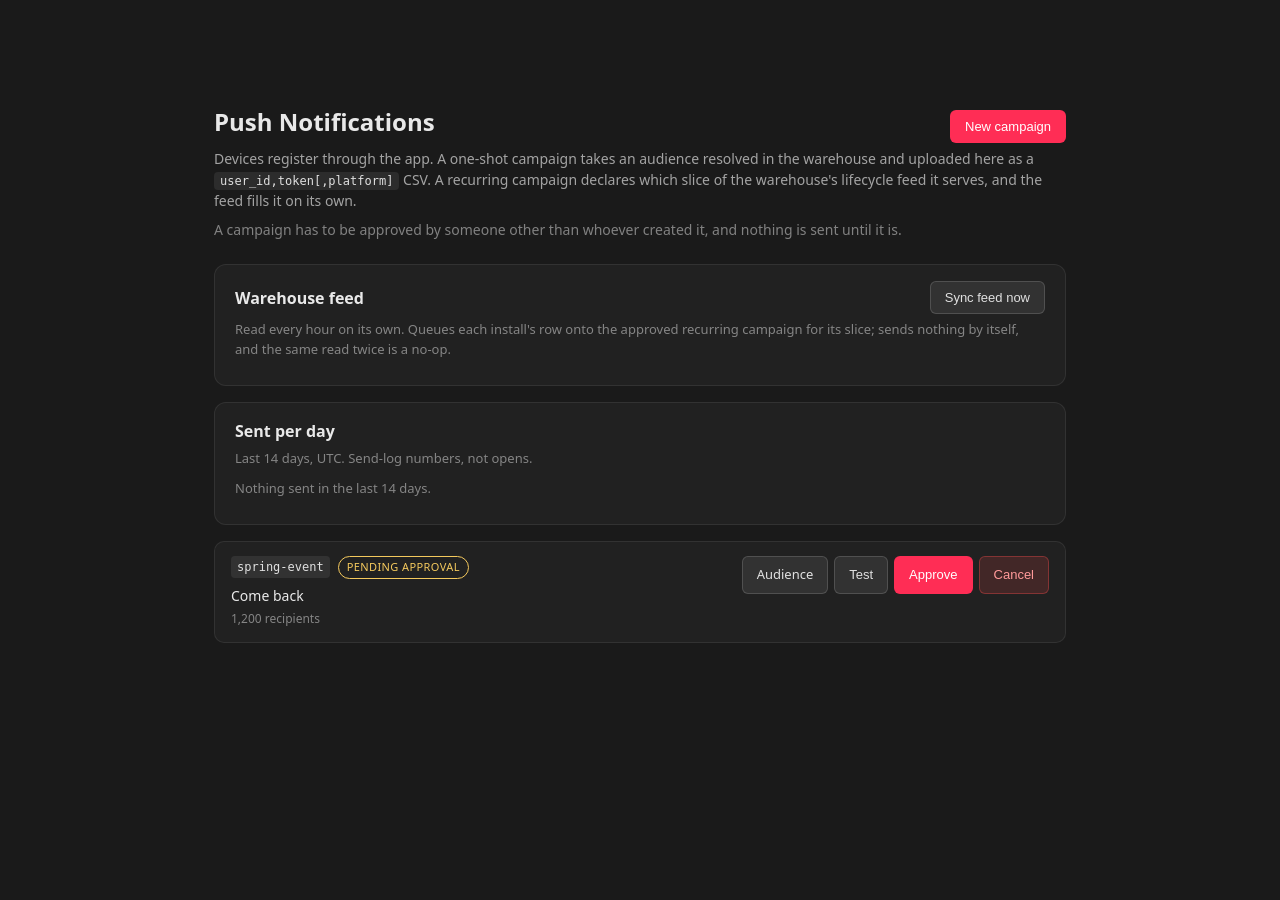
Scenario: PushPage › offers approval to anyone else
The image size is (1280, 900).
Click the button "Approve".
click(933, 575)  # box [894,556,972,594]
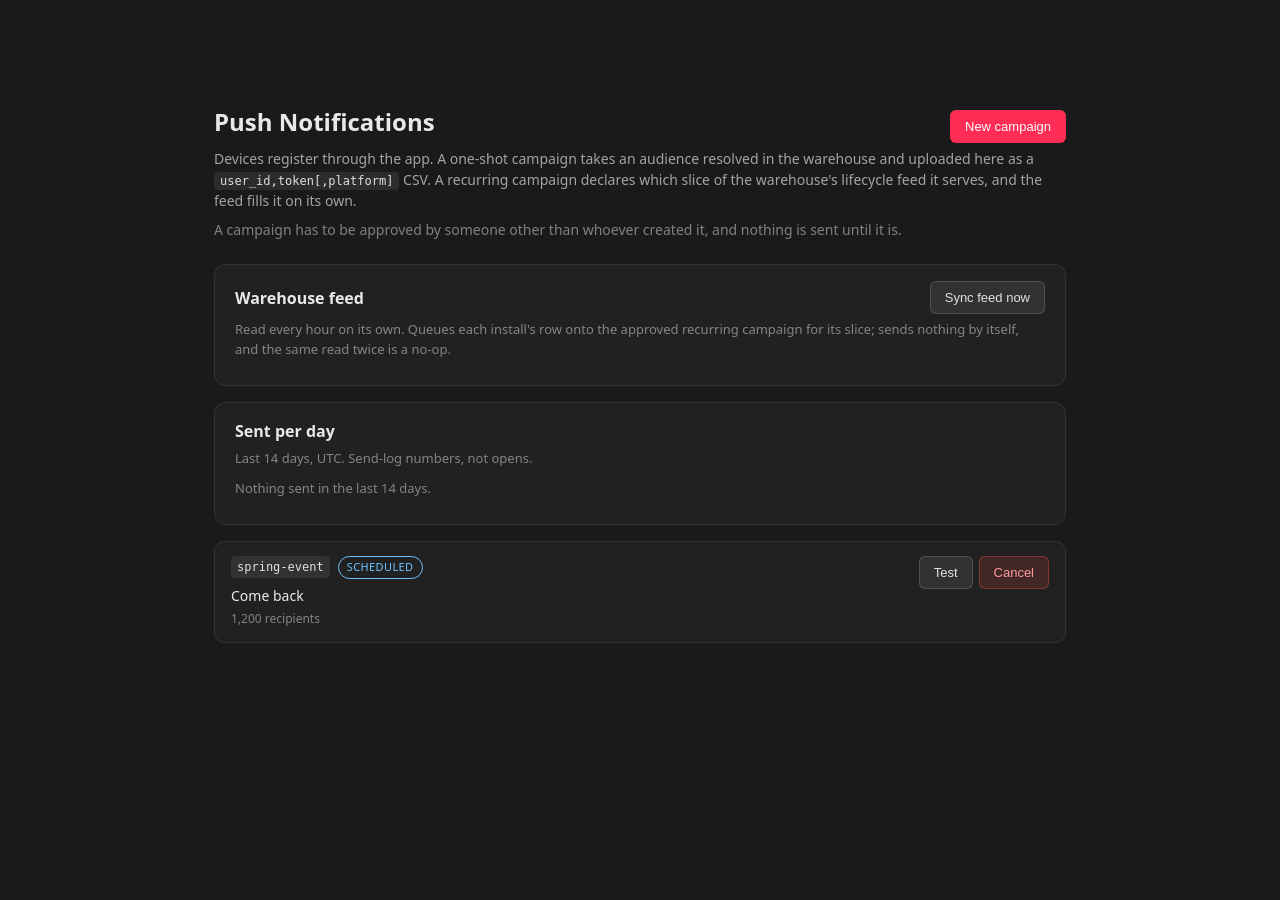
Expected: the text "Scheduled" is shown, [338,556,422,578]
